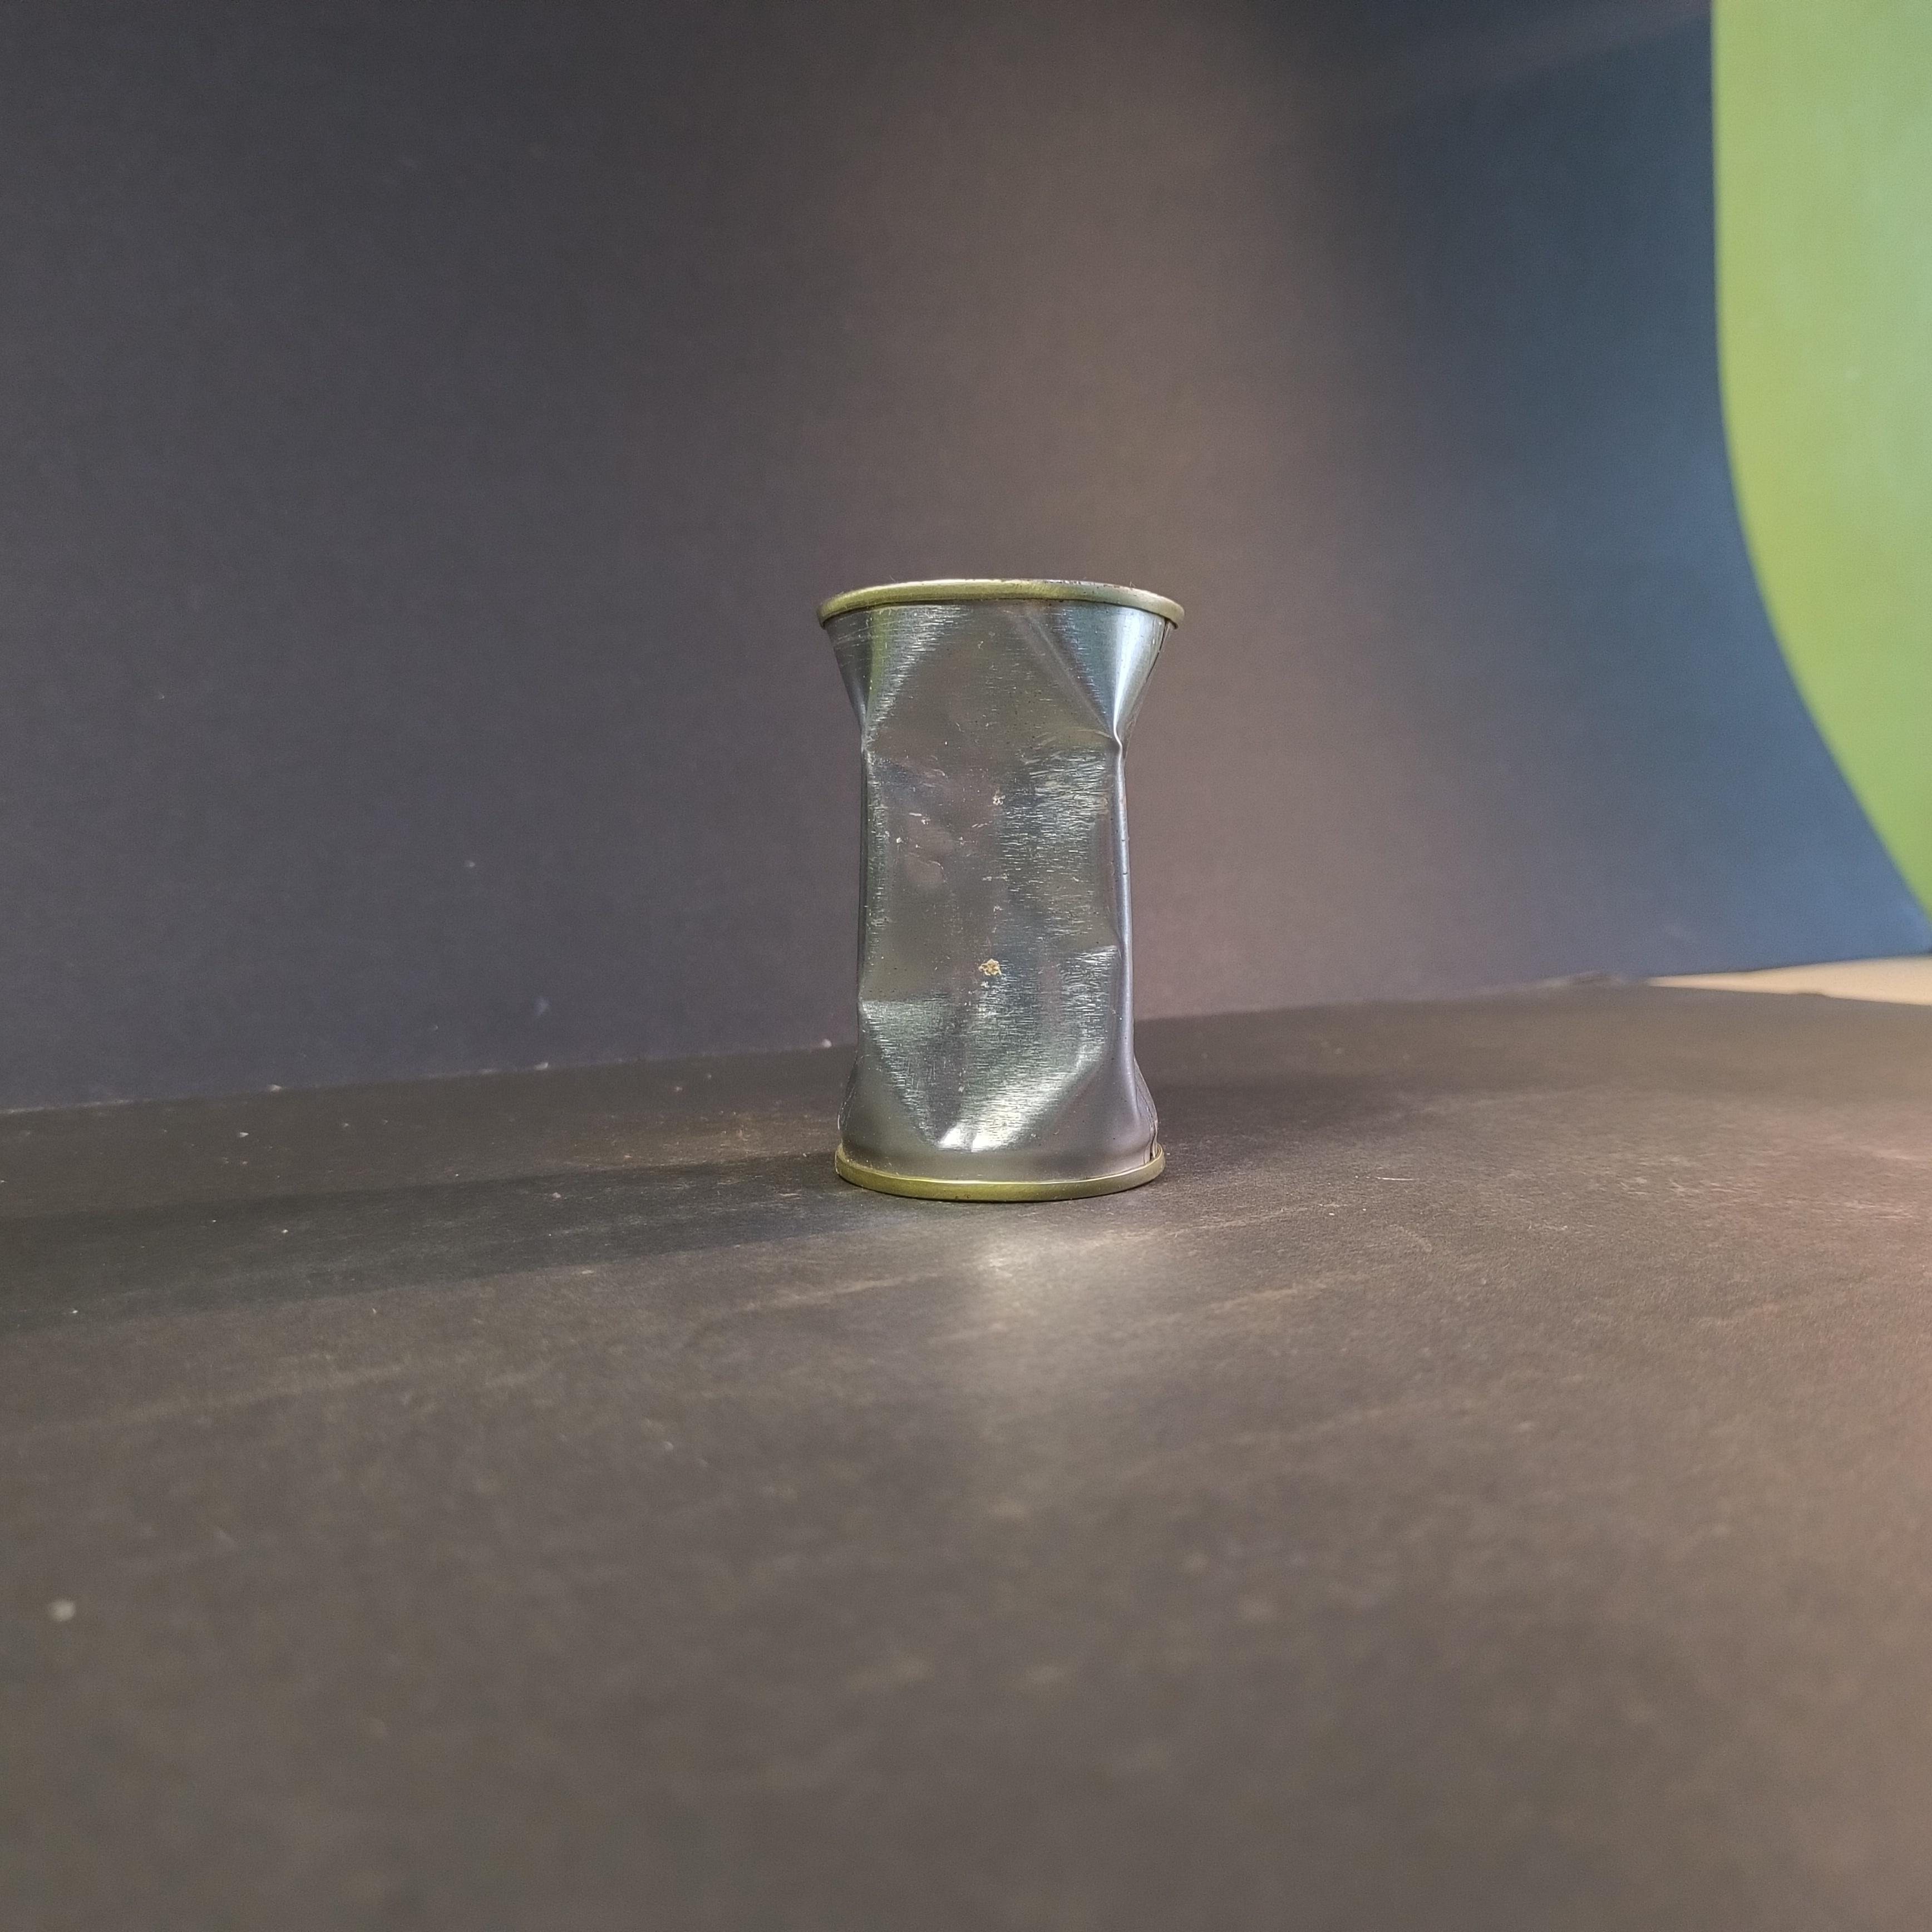Dented: (784, 538, 1196, 1233)
